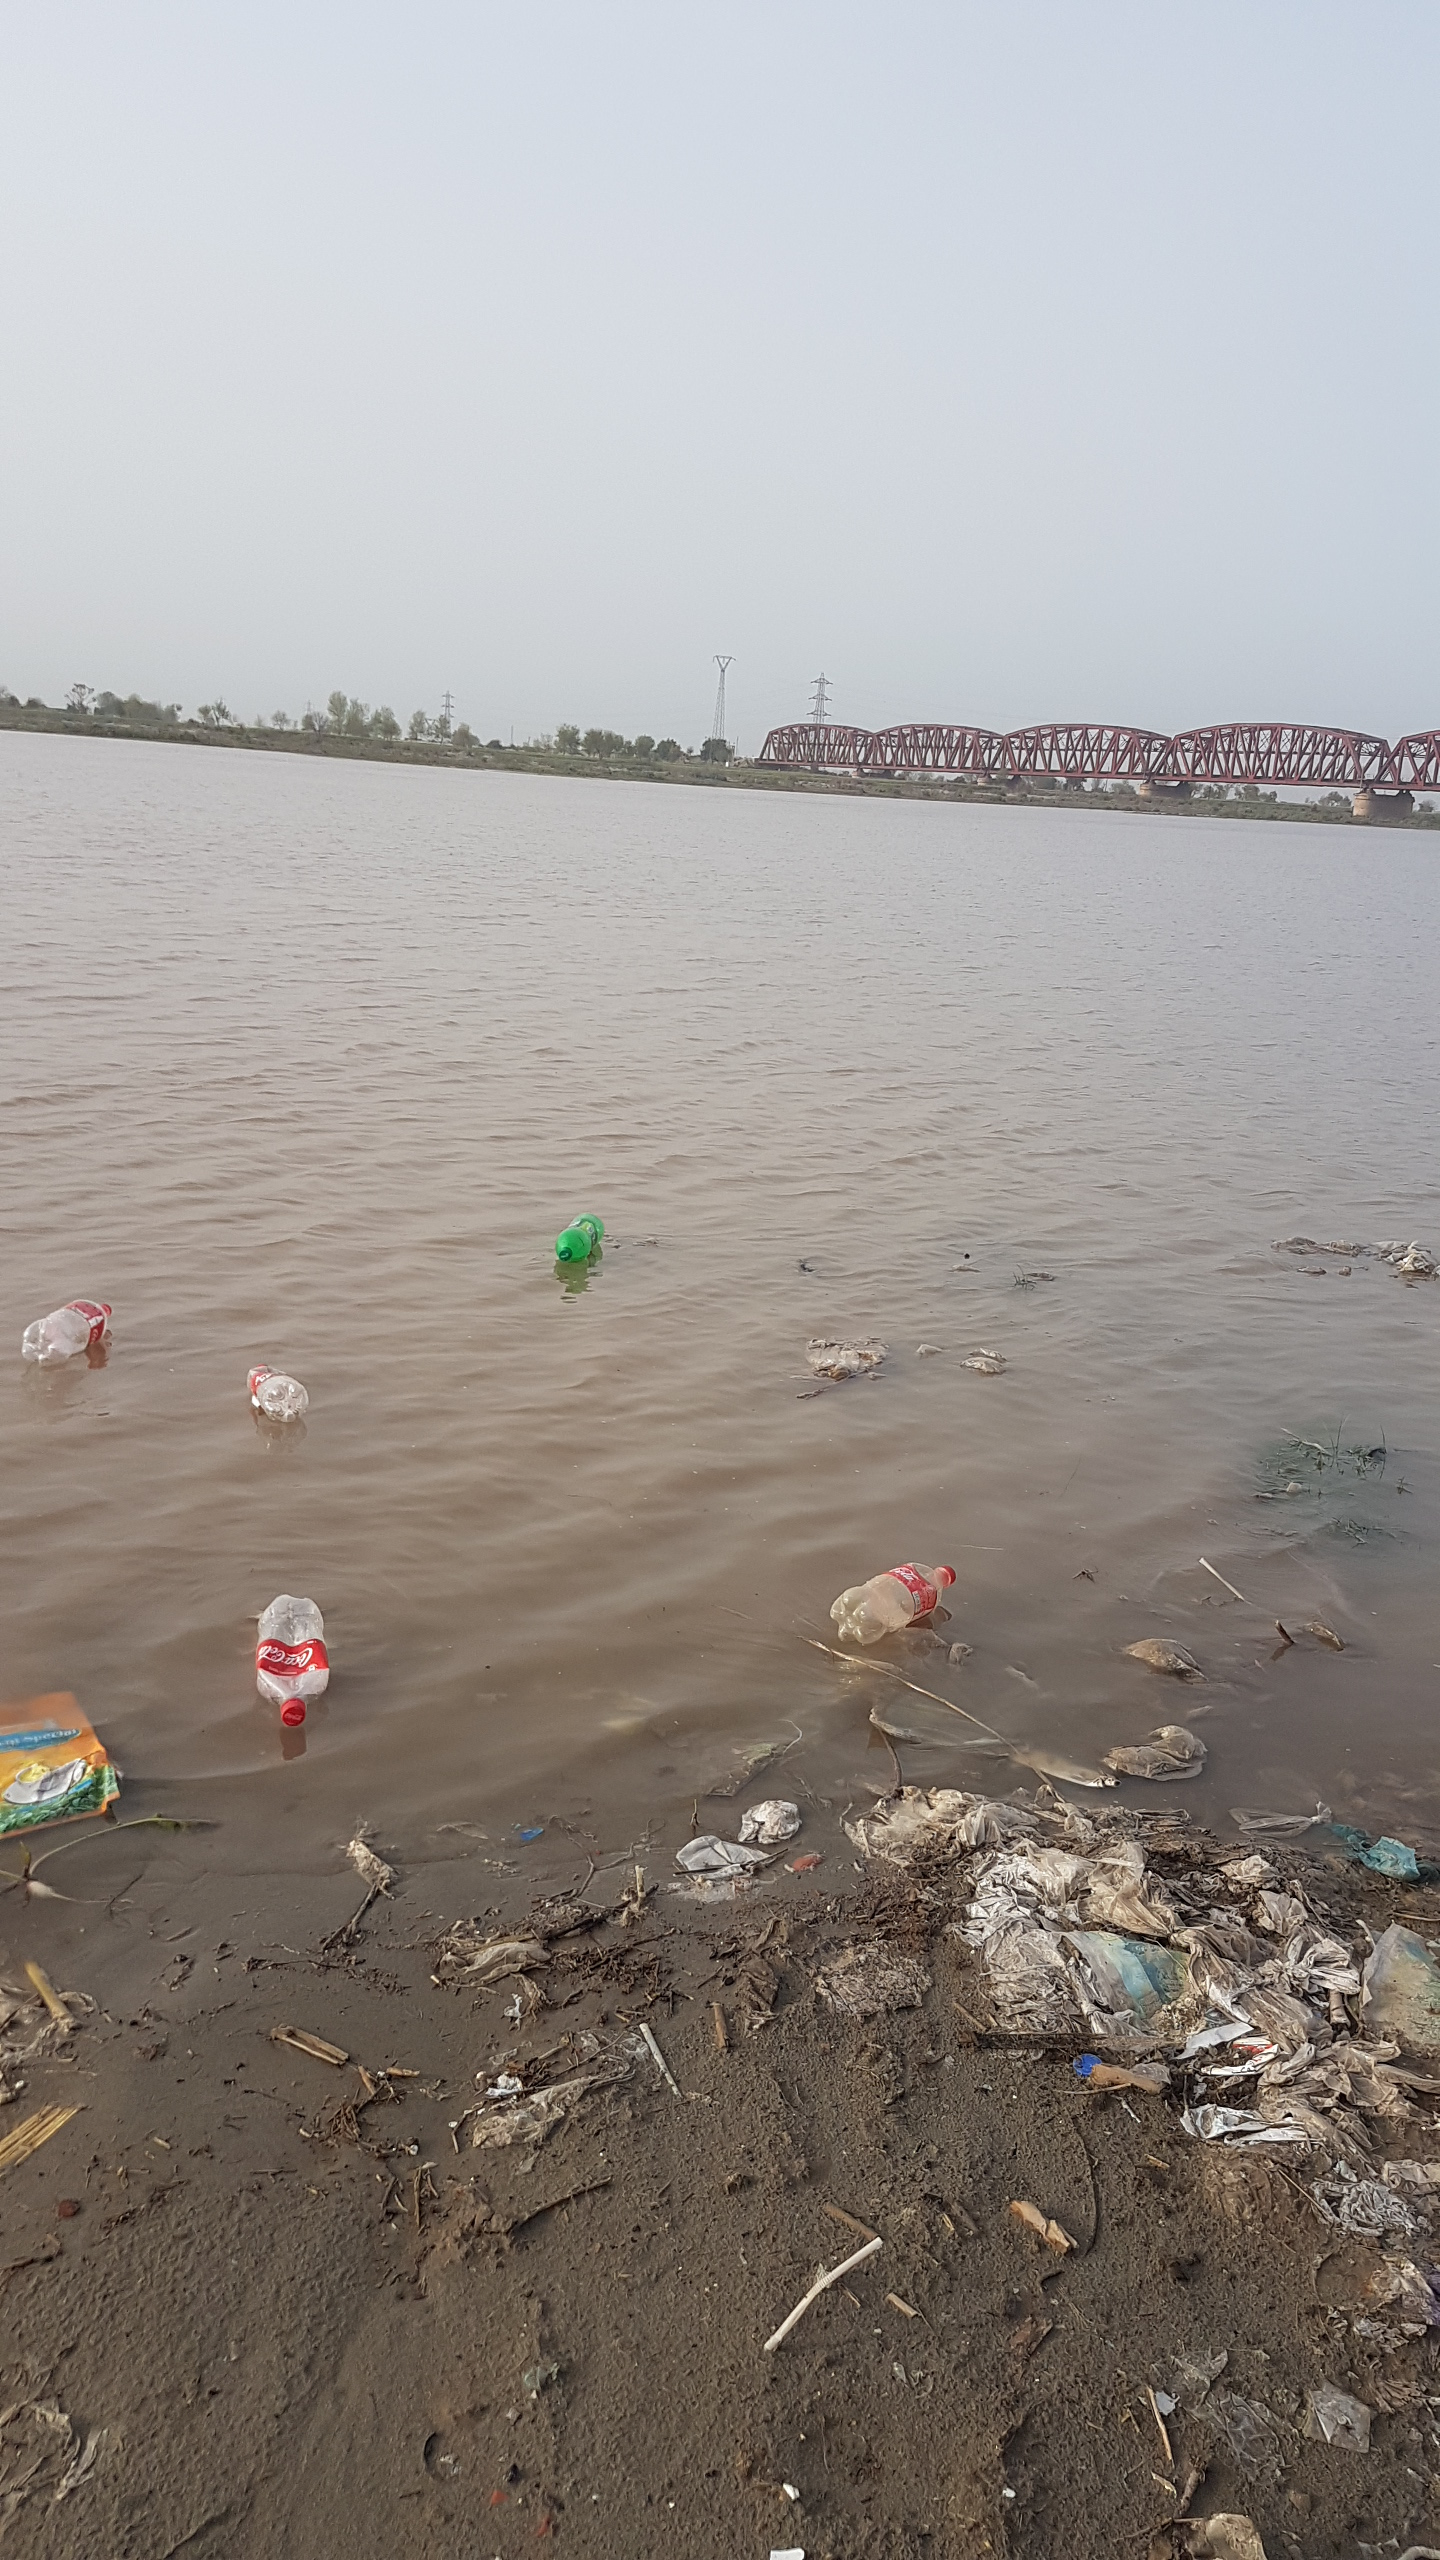Plastic Bottle: (830, 1561, 956, 1646), (257, 1595, 331, 1727), (21, 1299, 113, 1366), (246, 1363, 308, 1422), (554, 1211, 605, 1264)
